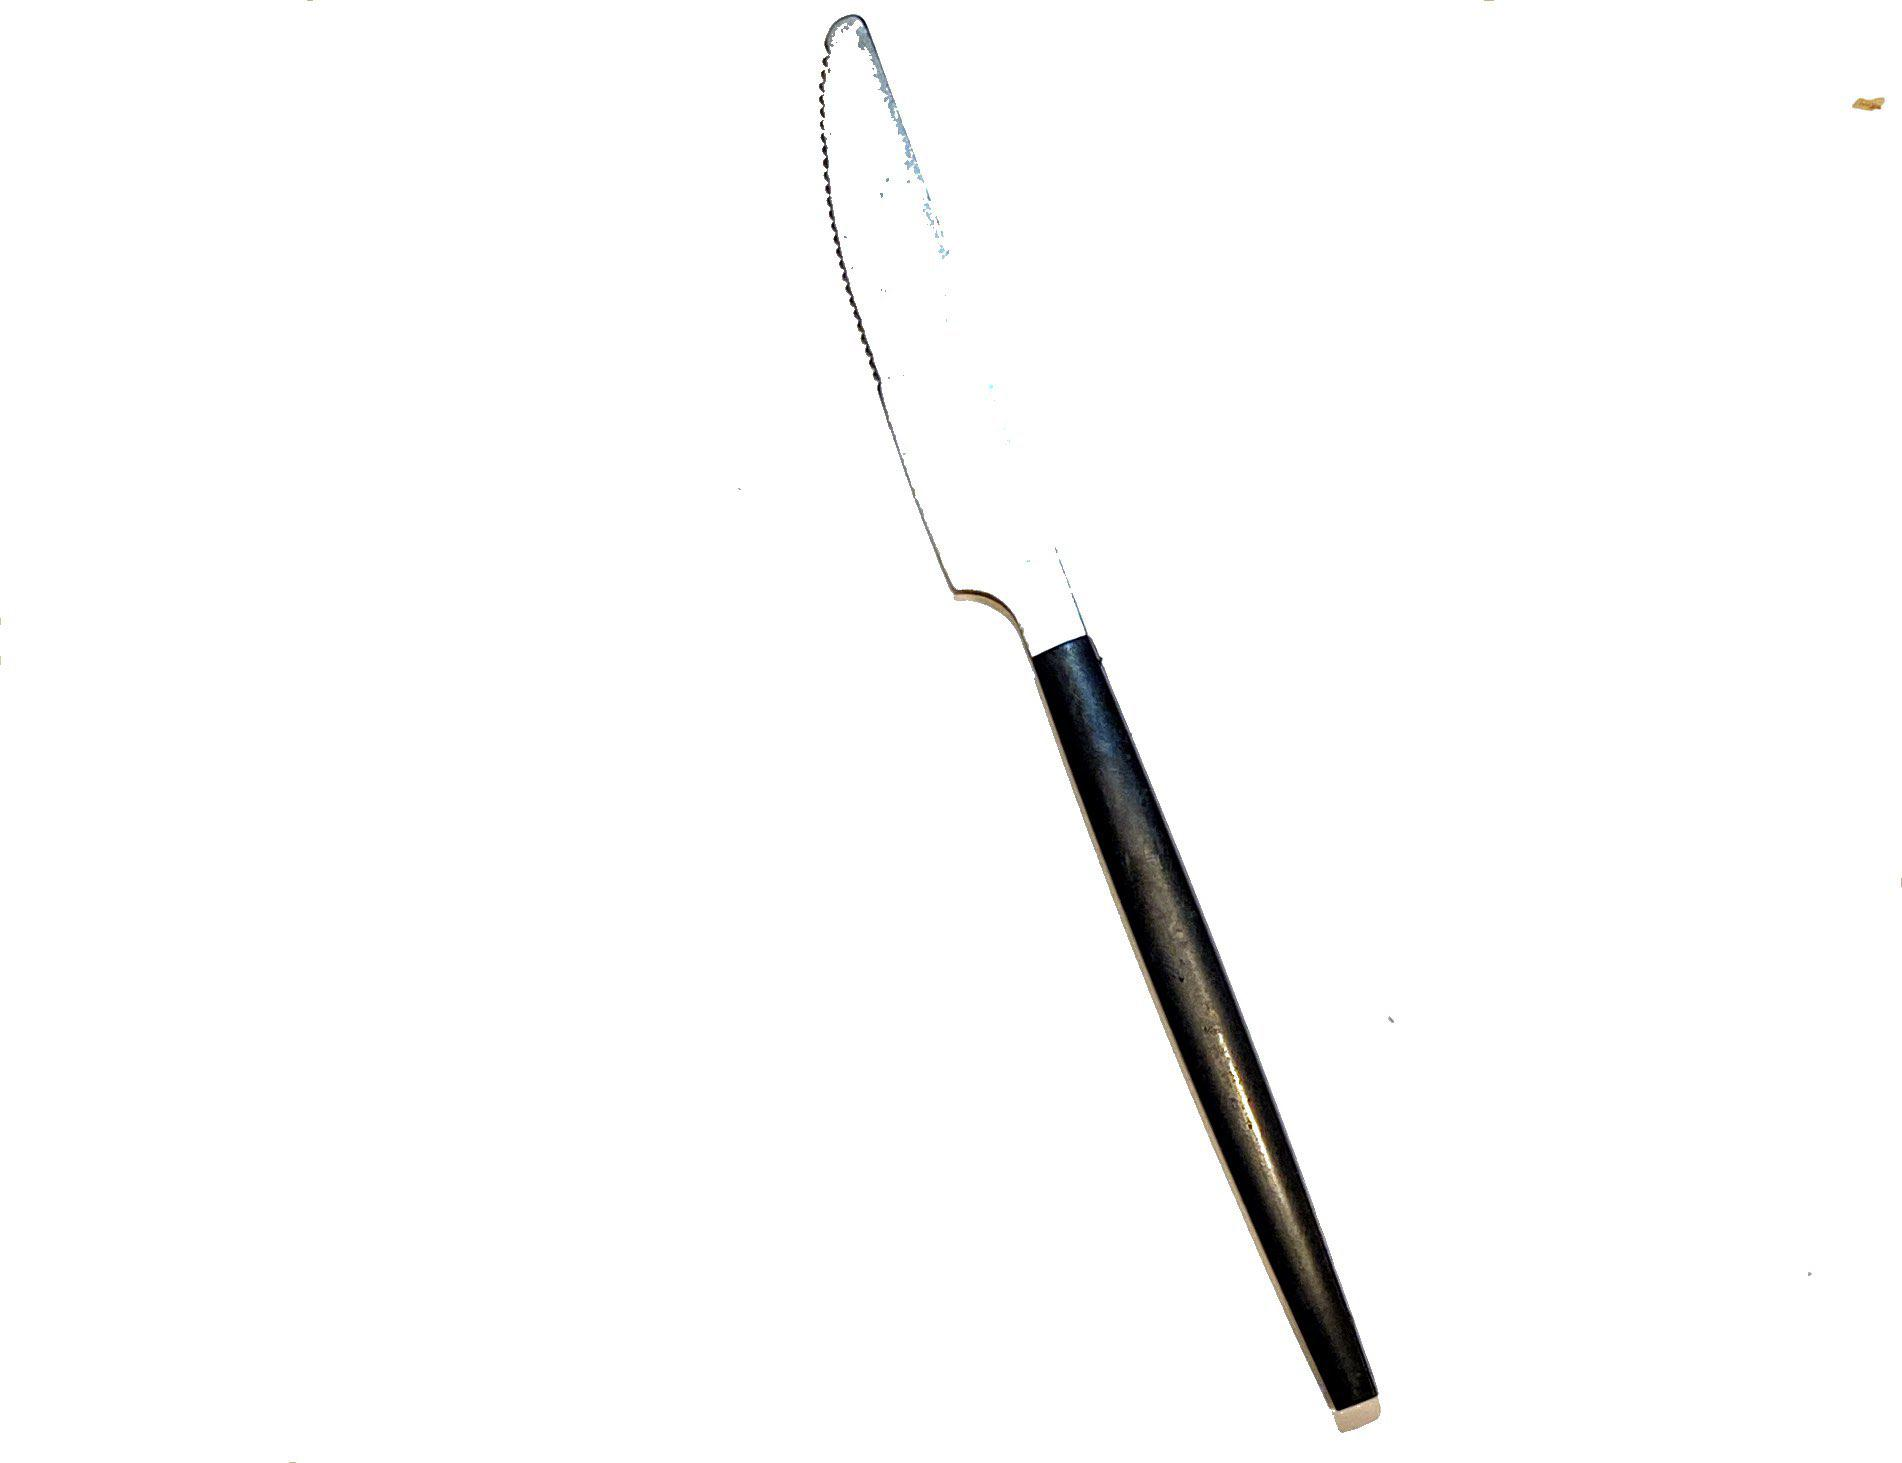Knife: (750, 2, 1595, 1451)
